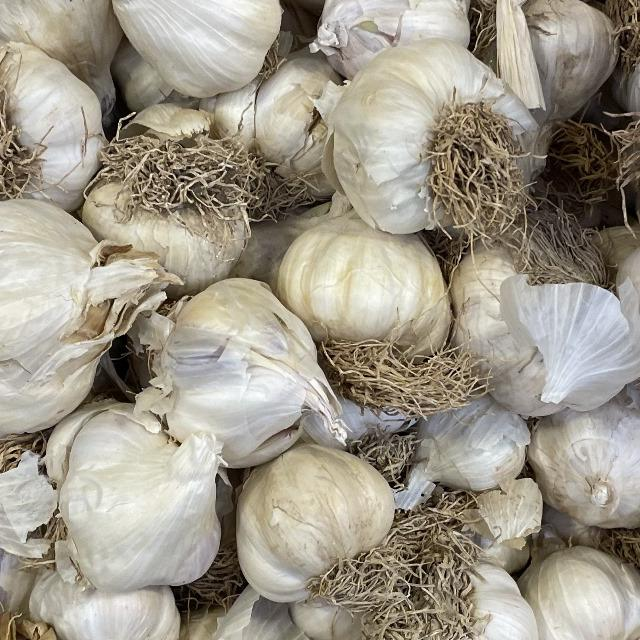garlic: (310, 38, 558, 265), (90, 0, 292, 115)
